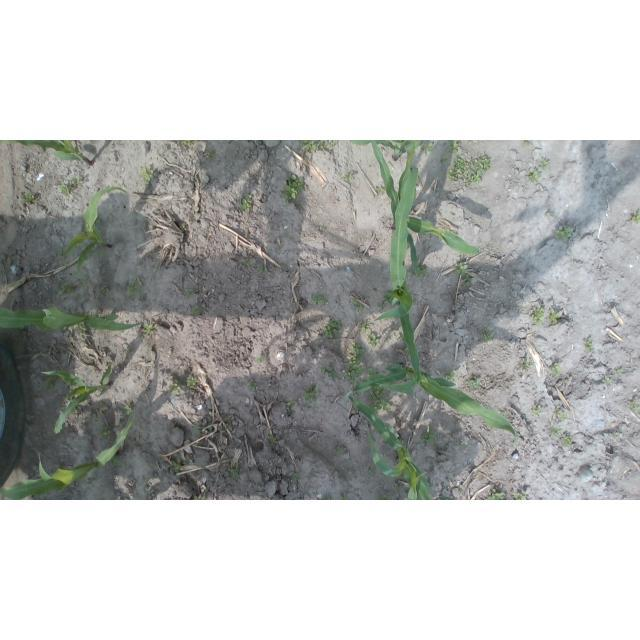Maize: (340, 363, 520, 449), (369, 140, 481, 273), (374, 143, 421, 389), (1, 414, 134, 500), (347, 394, 433, 500), (60, 186, 130, 291), (41, 363, 111, 433), (1, 304, 144, 332), (0, 140, 92, 166), (347, 140, 423, 160)
Weeds: (447, 154, 492, 186), (343, 341, 368, 384), (283, 174, 305, 205), (368, 386, 392, 414), (455, 261, 472, 287), (323, 318, 343, 339), (60, 281, 78, 299), (420, 427, 437, 445), (531, 306, 545, 327), (555, 226, 572, 243), (320, 362, 338, 378), (138, 166, 155, 182), (303, 387, 319, 404), (171, 456, 187, 472), (418, 141, 435, 156), (439, 370, 458, 383), (167, 378, 182, 394), (127, 280, 141, 297), (240, 194, 252, 213), (481, 326, 495, 342), (445, 140, 461, 154), (547, 308, 561, 324), (468, 374, 481, 391), (312, 293, 329, 306), (486, 489, 506, 500), (520, 357, 535, 371), (351, 298, 365, 313), (527, 170, 542, 183), (555, 407, 568, 422), (550, 422, 562, 438), (57, 184, 71, 197), (551, 362, 564, 376), (143, 323, 158, 335), (99, 426, 114, 438), (299, 140, 317, 150), (368, 333, 380, 348), (43, 376, 55, 390), (22, 192, 36, 204), (413, 266, 427, 278), (319, 141, 337, 150), (513, 490, 529, 500), (562, 434, 574, 447), (583, 337, 594, 351), (630, 400, 640, 415), (122, 404, 134, 416), (538, 158, 550, 170), (340, 173, 354, 183), (287, 397, 297, 411), (381, 290, 391, 304), (190, 305, 202, 316), (184, 376, 196, 387), (205, 149, 216, 161), (389, 325, 400, 336), (333, 444, 344, 455), (192, 425, 212, 431), (532, 404, 542, 416), (397, 331, 407, 343), (229, 469, 239, 480), (365, 467, 376, 477), (393, 482, 403, 493), (360, 321, 371, 331), (75, 324, 87, 333), (181, 140, 198, 146), (186, 288, 197, 297), (99, 286, 110, 295), (71, 176, 83, 184), (374, 187, 386, 195), (632, 211, 640, 223), (367, 367, 379, 375), (257, 266, 267, 275), (269, 434, 278, 444), (292, 473, 301, 483), (602, 377, 613, 385), (222, 423, 232, 431), (190, 495, 206, 500), (440, 155, 448, 165), (248, 380, 258, 388), (377, 301, 385, 311), (378, 494, 391, 500), (88, 477, 97, 485), (340, 492, 349, 500), (256, 355, 266, 362), (437, 496, 450, 501), (242, 259, 250, 267), (614, 369, 624, 375), (460, 440, 468, 447), (523, 141, 532, 147), (612, 431, 621, 437), (96, 219, 103, 226), (546, 212, 555, 217), (181, 225, 188, 231), (58, 249, 64, 256), (284, 229, 290, 236), (122, 348, 131, 352), (386, 336, 391, 343), (321, 497, 332, 500), (148, 356, 153, 361), (96, 312, 101, 317), (320, 227, 325, 231), (149, 347, 152, 352), (357, 435, 360, 439)
